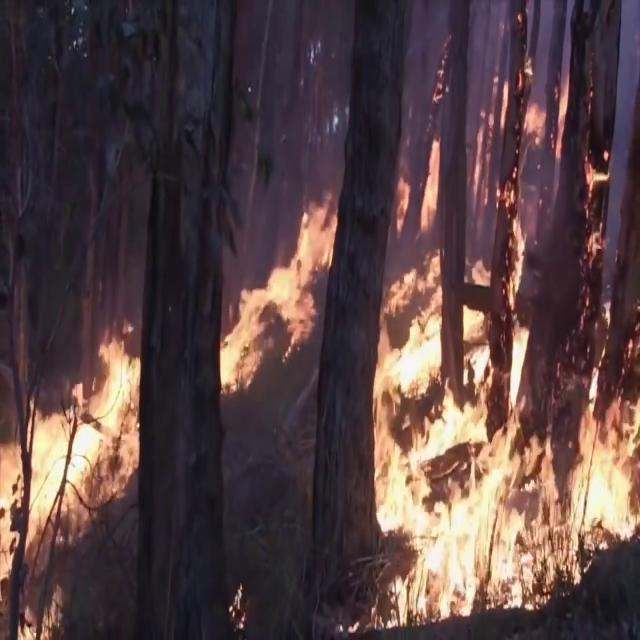Fire: (372, 74, 640, 624), (0, 306, 140, 635), (218, 190, 334, 390)
